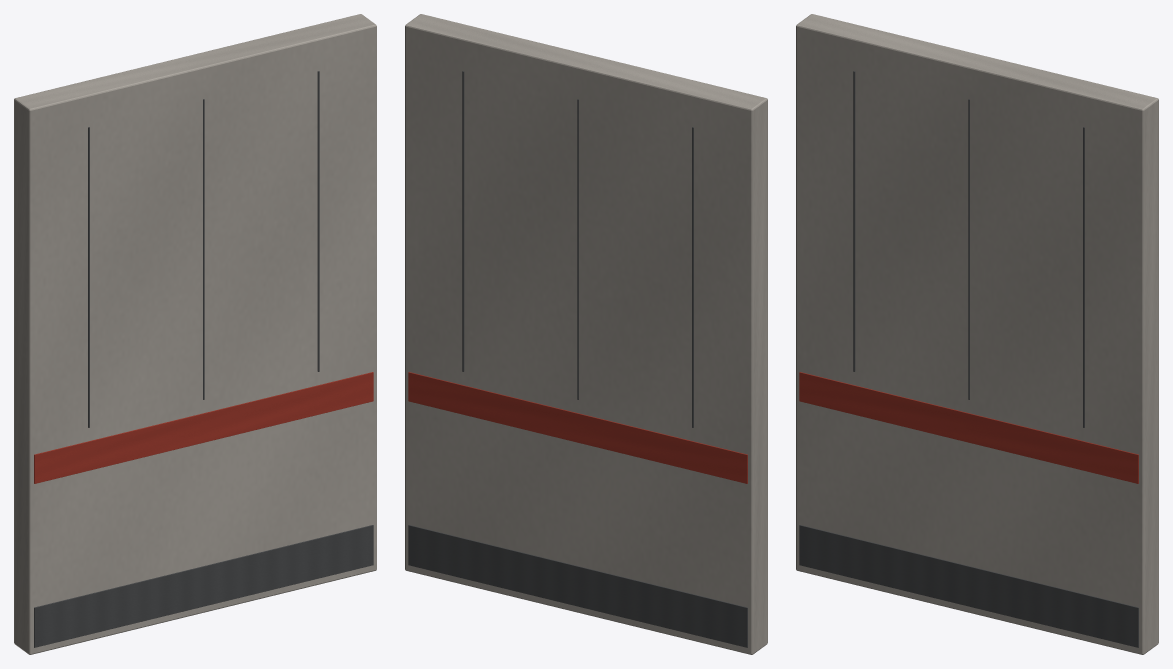
Rendered from wall_panel.glb.
3 renders of one model, left to right at view 1: azimuth 30°, elevation 25°; view 2: azimuth 150°, elevation 25°; view 3: azimuth 330°, elevation 25°, orthographic.
Parts seen in each view (by area): view 1: wall_core.001, dark_base, red_stripe.008, panel_seam.002, panel_seam, panel_seam.001; view 2: wall_core.001, dark_base.001, red_stripe.009, panel_seam.005, panel_seam.003, panel_seam.004; view 3: wall_core.001, dark_base, red_stripe.008, panel_seam, panel_seam.001, panel_seam.002.
Part boxes in pixels (bbox=[...]): wall_core.001: bbox=[14, 14, 376, 654]; dark_base: bbox=[34, 525, 373, 647]; red_stripe.008: bbox=[34, 372, 373, 483]; panel_seam.002: bbox=[317, 71, 319, 371]; panel_seam: bbox=[88, 127, 89, 427]; panel_seam.001: bbox=[203, 99, 204, 399]; wall_core.001: bbox=[405, 14, 767, 654]; dark_base.001: bbox=[408, 525, 747, 647]; red_stripe.009: bbox=[408, 372, 747, 483]; panel_seam.005: bbox=[462, 71, 464, 371]; panel_seam.003: bbox=[692, 127, 693, 427]; panel_seam.004: bbox=[577, 99, 578, 399]; wall_core.001: bbox=[796, 14, 1158, 654]; dark_base: bbox=[799, 525, 1138, 647]; red_stripe.008: bbox=[799, 372, 1138, 483]; panel_seam: bbox=[853, 71, 855, 371]; panel_seam.001: bbox=[968, 99, 969, 399]; panel_seam.002: bbox=[1083, 127, 1084, 427].
Size of the model in its own units: 2 by 3 by 0.172.
3 materials, 3 textured.
